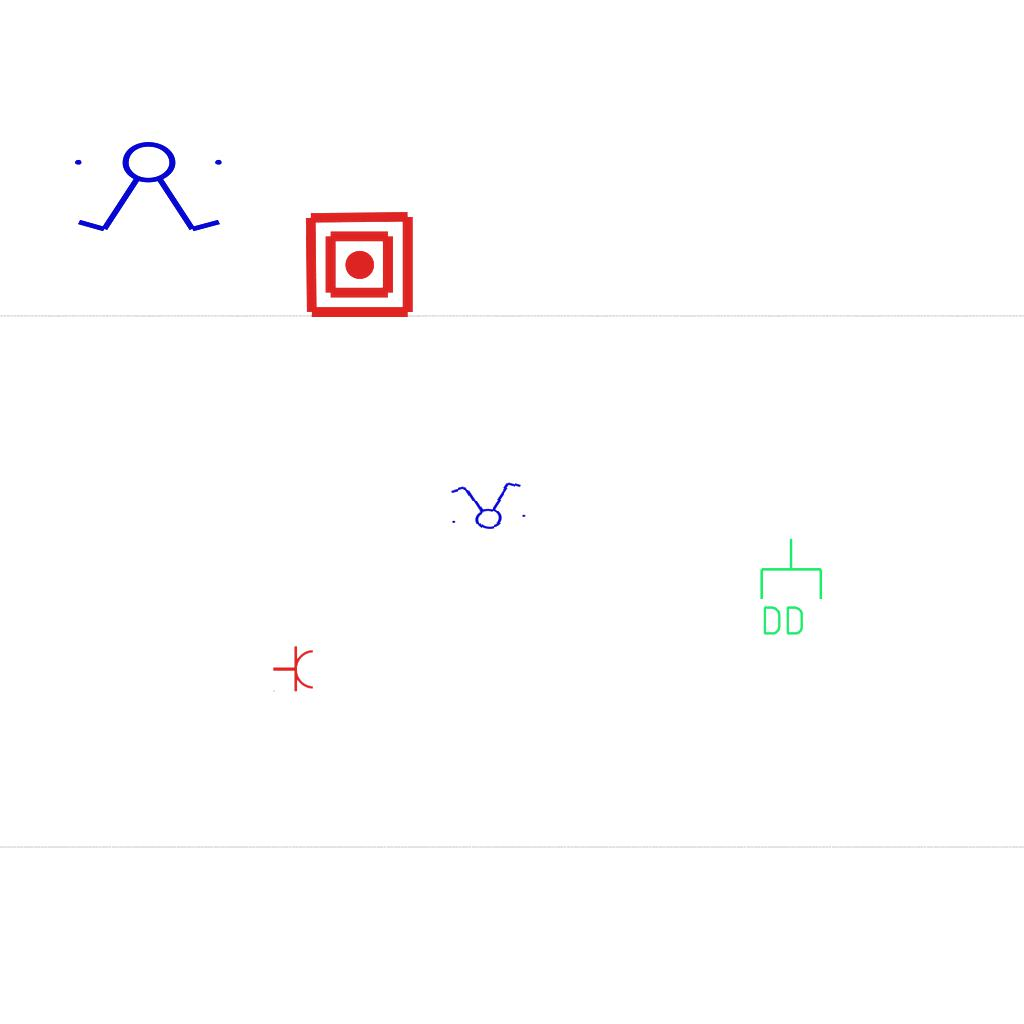Datenanschluss_zweifach: (756, 536, 825, 639)
NAM-Nichtautomatischer_Melder: (303, 208, 416, 321)
Schukosteckdose_einfach: (272, 645, 315, 695)
Serienschalter: (66, 140, 234, 236), (443, 478, 531, 534)
